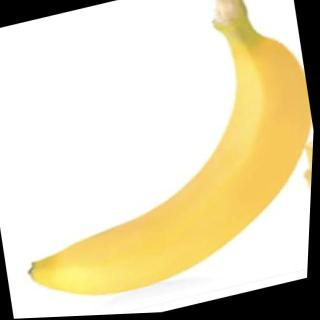banana: (0, 29, 318, 317)
